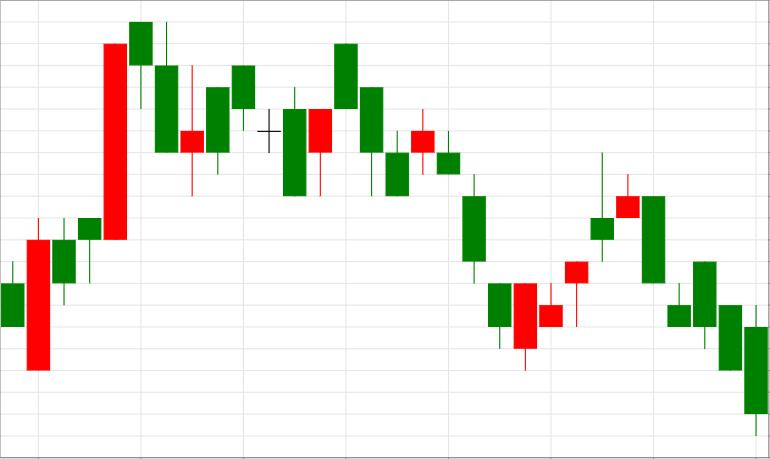bullish_engulfing_rise: (334, 43, 537, 371)
